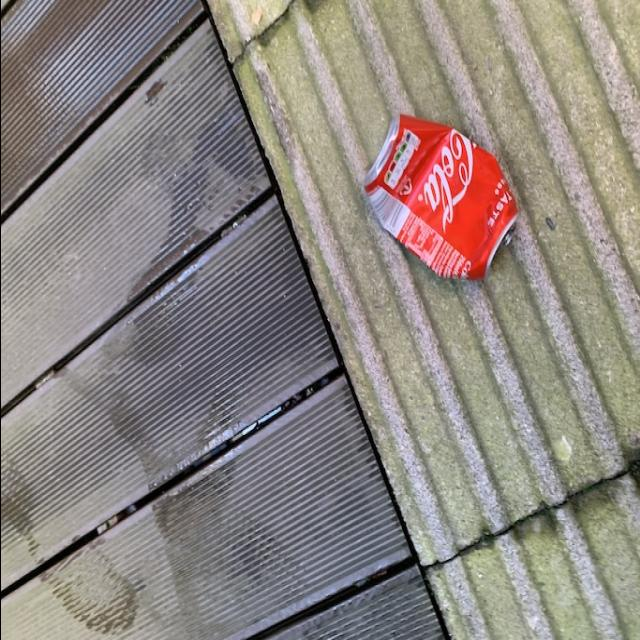litter: (351, 112, 519, 292)
